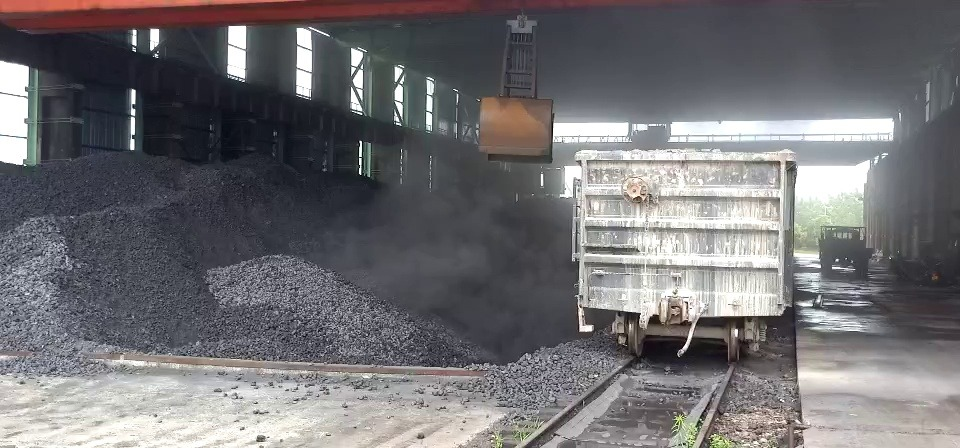dust: (343, 190, 573, 341)
grab: (474, 10, 559, 165)
